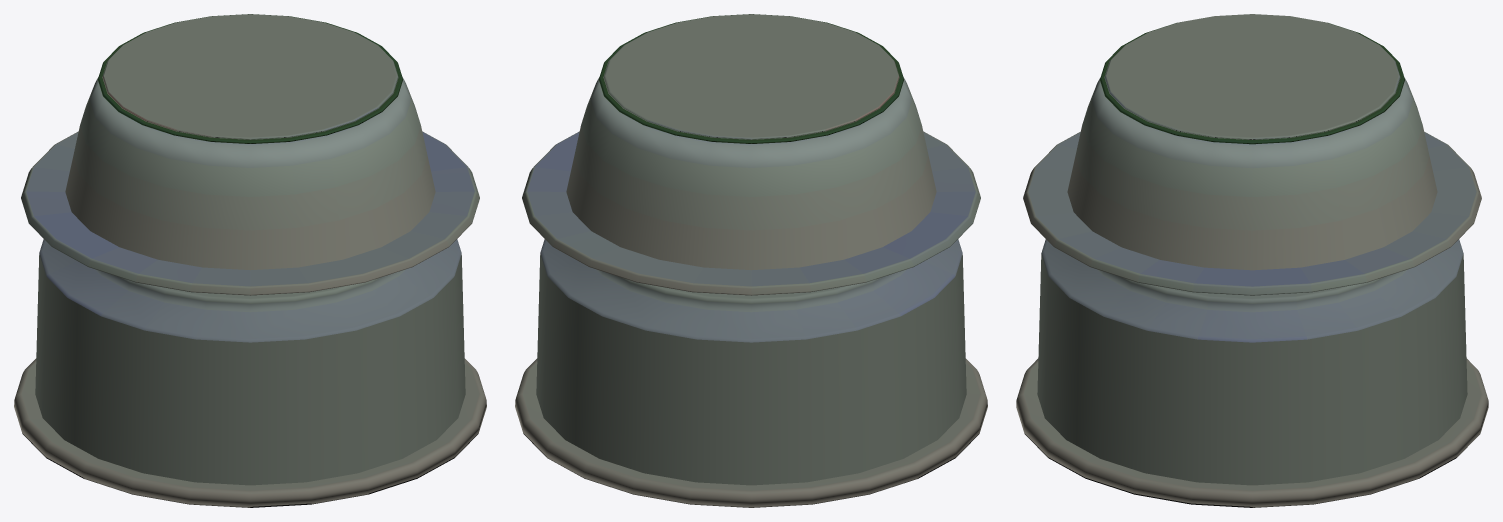
File: Tile_bot_M.fbx
3 views of the same model, side by side, from view 1: azimuth 30°, elevation 25°; view 2: azimuth 150°, elevation 25°; view 3: azimuth 270°, elevation 25° (orthographic).
Parts seen in each view (by area): view 1: Tile_top_M, Tile_bot_M; view 2: Tile_top_M, Tile_bot_M; view 3: Tile_top_M, Tile_bot_M.
Part boxes in pixels (left/top/right/bottom): Tile_top_M: left=21, top=14, right=479, bottom=295; Tile_bot_M: left=14, top=239, right=486, bottom=507; Tile_top_M: left=522, top=14, right=980, bottom=295; Tile_bot_M: left=515, top=239, right=987, bottom=507; Tile_top_M: left=1023, top=14, right=1481, bottom=295; Tile_bot_M: left=1016, top=239, right=1488, bottom=507.
Size of the model in its own units: 134 by 104 by 134.
